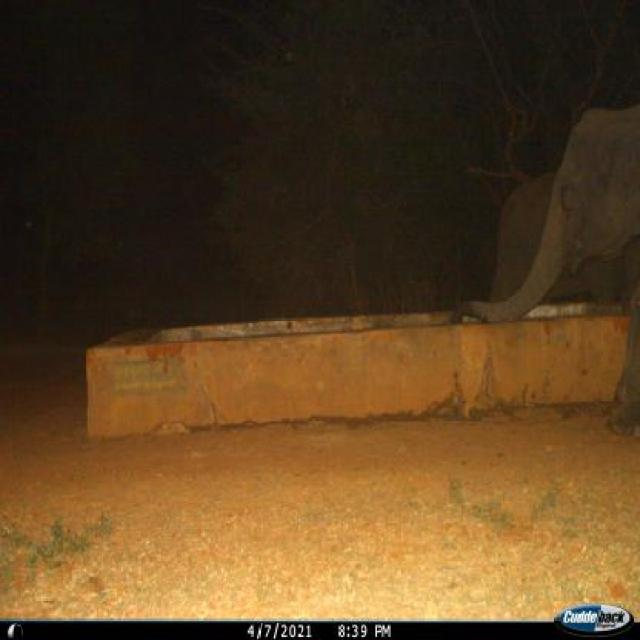Elephant: (472, 79, 640, 408)
